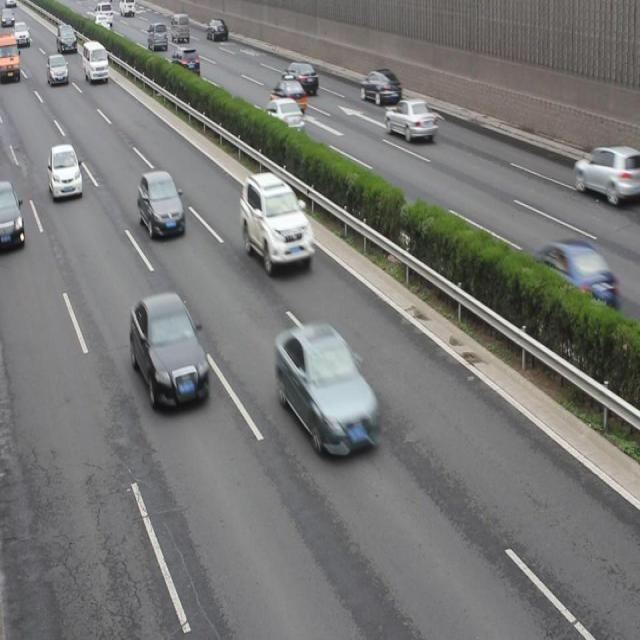car: (277, 326, 377, 457), (132, 296, 210, 407), (532, 240, 621, 322), (240, 173, 313, 268), (574, 146, 640, 204), (137, 170, 185, 237), (384, 99, 436, 140), (48, 142, 82, 200), (1, 182, 24, 248), (360, 70, 401, 105), (263, 98, 303, 133), (271, 78, 305, 110), (283, 61, 316, 92), (172, 48, 200, 80), (47, 54, 68, 83), (147, 22, 167, 51), (58, 25, 77, 53), (206, 19, 226, 40)
truck: (82, 41, 109, 83), (1, 32, 20, 78), (170, 12, 189, 41)
